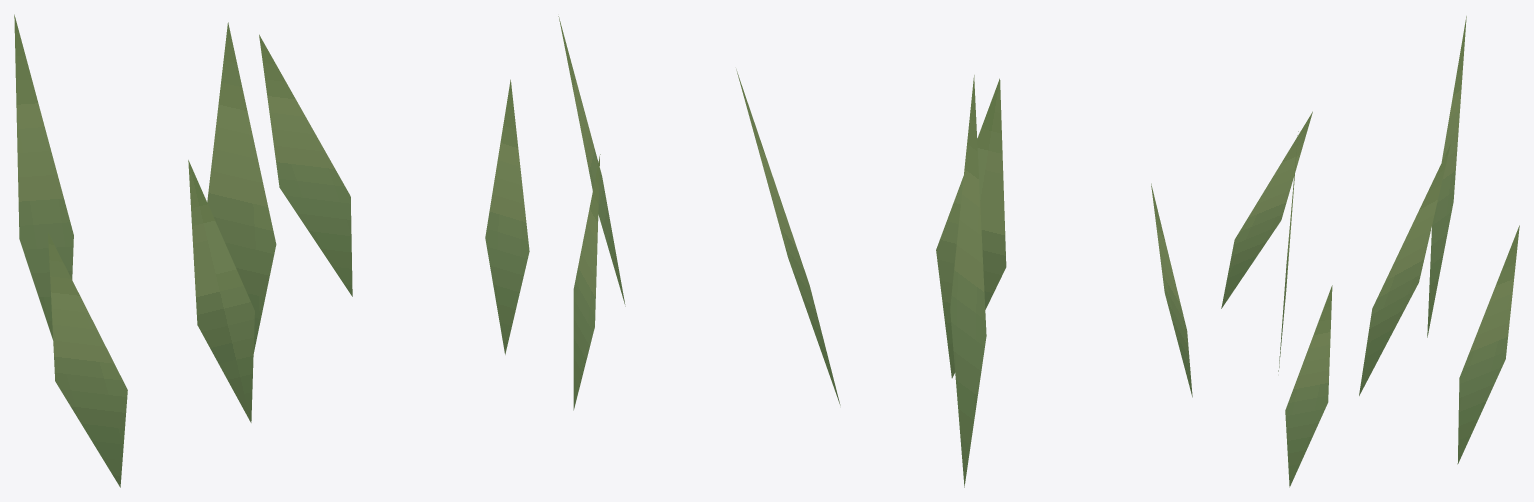
Rendered from objects_un_c02main_grass13.gltf.
The picture shows the model from 3 angles, left to right: view 1: azimuth 30°, elevation 25°; view 2: azimuth 150°, elevation 25°; view 3: azimuth 270°, elevation 25°; orthographic projection. The views are drawn at different scales.
Visible parts, largest first — view 1: um_objects_un_c02main_grass13_model_objects_un_c02main_grass; view 2: um_objects_un_c02main_grass13_model_objects_un_c02main_grass; view 3: um_objects_un_c02main_grass13_model_objects_un_c02main_grass.
Boxes of the visible parts, box(x1,y1,x2,y2) form: um_objects_un_c02main_grass13_model_objects_un_c02main_grass: box(14, 14, 529, 487); um_objects_un_c02main_grass13_model_objects_un_c02main_grass: box(558, 16, 1192, 487); um_objects_un_c02main_grass13_model_objects_un_c02main_grass: box(1221, 16, 1519, 487).
Size of the model in its own units: 0.4734 by 0.3383 by 0.2929.
1 material, 1 textured.
